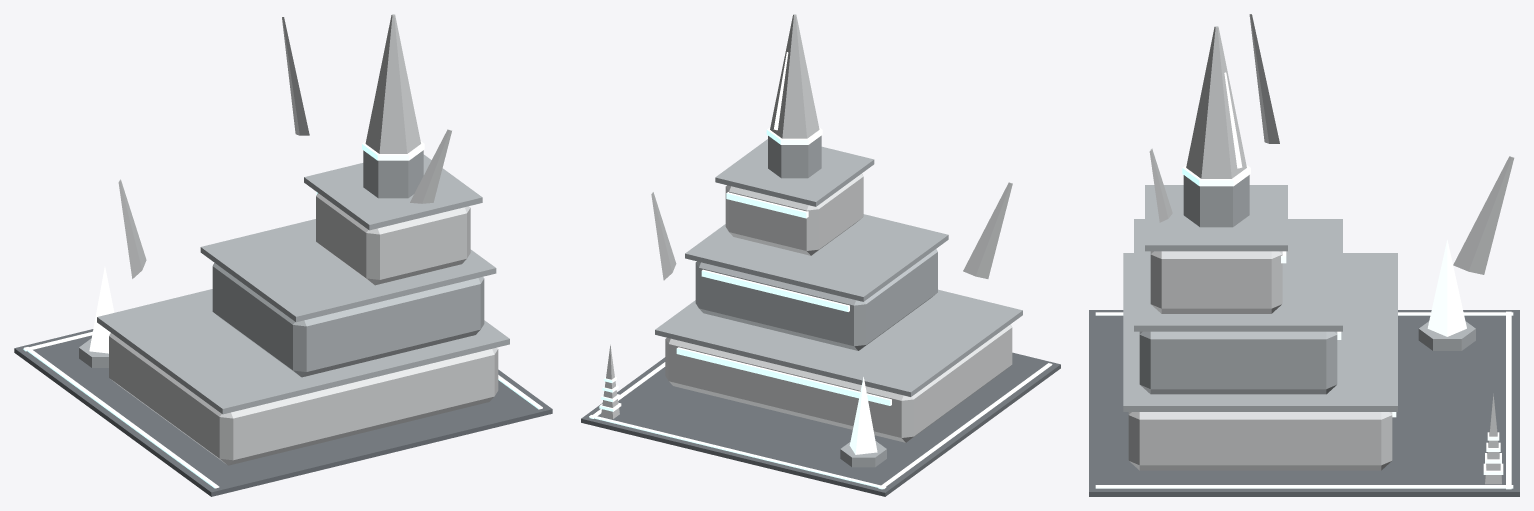
Rendered from zone_low_3_t4.glb.
3 renders of one model, left to right at view 1: azimuth 30°, elevation 25°; view 2: azimuth 150°, elevation 25°; view 3: azimuth 270°, elevation 25°, orthographic. The views are drawn at different scales.
Parts seen in each view (by area): view 1: zone_low_3_t4, detail; view 2: zone_low_3_t4, detail; view 3: zone_low_3_t4, detail.
Boxes of the visible parts, x1=… form: zone_low_3_t4: x1=14, y1=14, x2=552, y2=496; detail: x1=23, y1=331, x2=542, y2=488; zone_low_3_t4: x1=581, y1=14, x2=1060, y2=496; detail: x1=589, y1=344, x2=1052, y2=489; zone_low_3_t4: x1=1089, y1=14, x2=1519, y2=496; detail: x1=1095, y1=311, x2=1513, y2=489.
Size of the model in its own units: 20.72 by 20.91 by 19.6.
